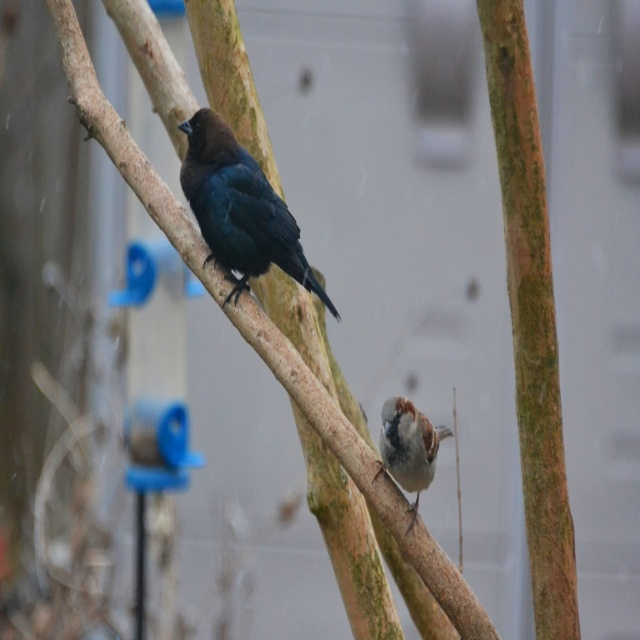Sparrow: (179, 106, 341, 318), (370, 397, 454, 533)
